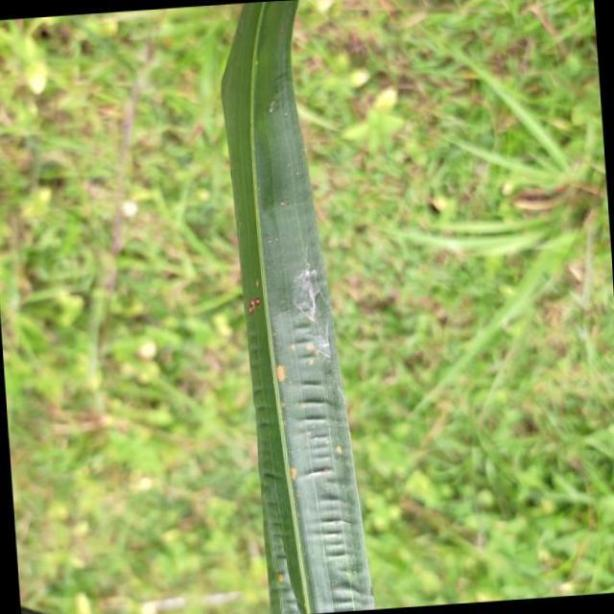Boron: (219, 1, 374, 614)
